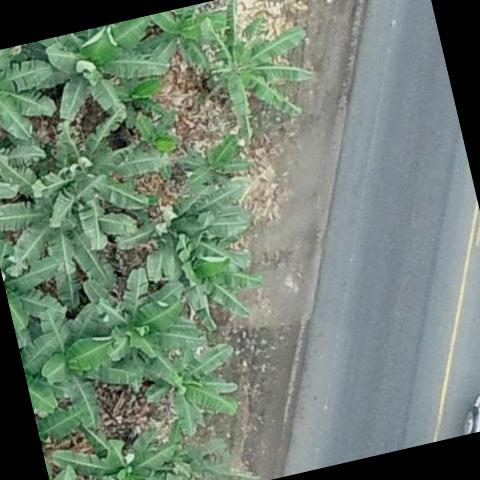Banana-plant: (186, 0, 323, 139), (34, 114, 177, 247), (69, 258, 194, 392), (148, 204, 270, 338), (35, 15, 172, 128), (13, 302, 127, 436), (139, 334, 251, 438), (0, 144, 83, 277), (51, 416, 194, 480), (135, 0, 236, 72), (0, 39, 62, 144), (176, 133, 260, 197)
